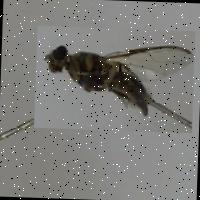Oriental-fruit-fly: (34, 26, 196, 133)
